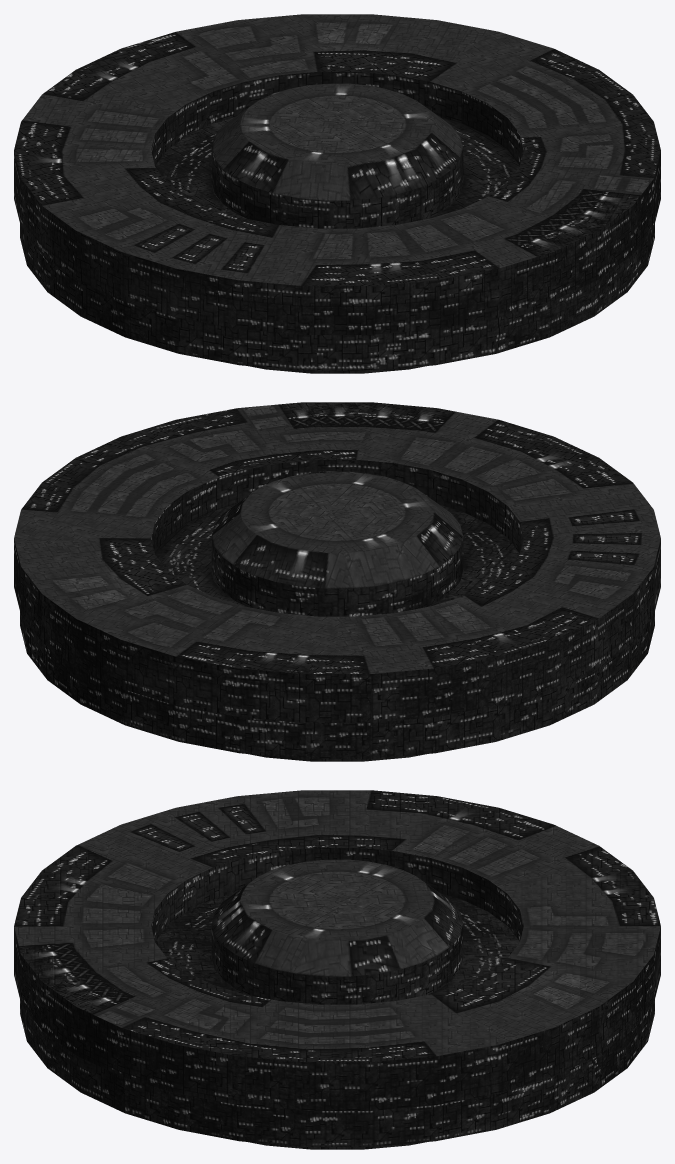
The model's file is station_t2.FBX.
3 views of the same model, one above another, from view 1: azimuth 30°, elevation 25°; view 2: azimuth 150°, elevation 25°; view 3: azimuth 270°, elevation 25° (orthographic).
Parts seen in each view (by area): view 1: Tube01; view 2: Tube01; view 3: Tube01.
Part boxes in pixels (bbox=[...]): Tube01: bbox=[14, 14, 660, 373]; Tube01: bbox=[14, 402, 660, 761]; Tube01: bbox=[14, 790, 660, 1149].
Size of the model in its own units: 2017 by 526 by 2028.
